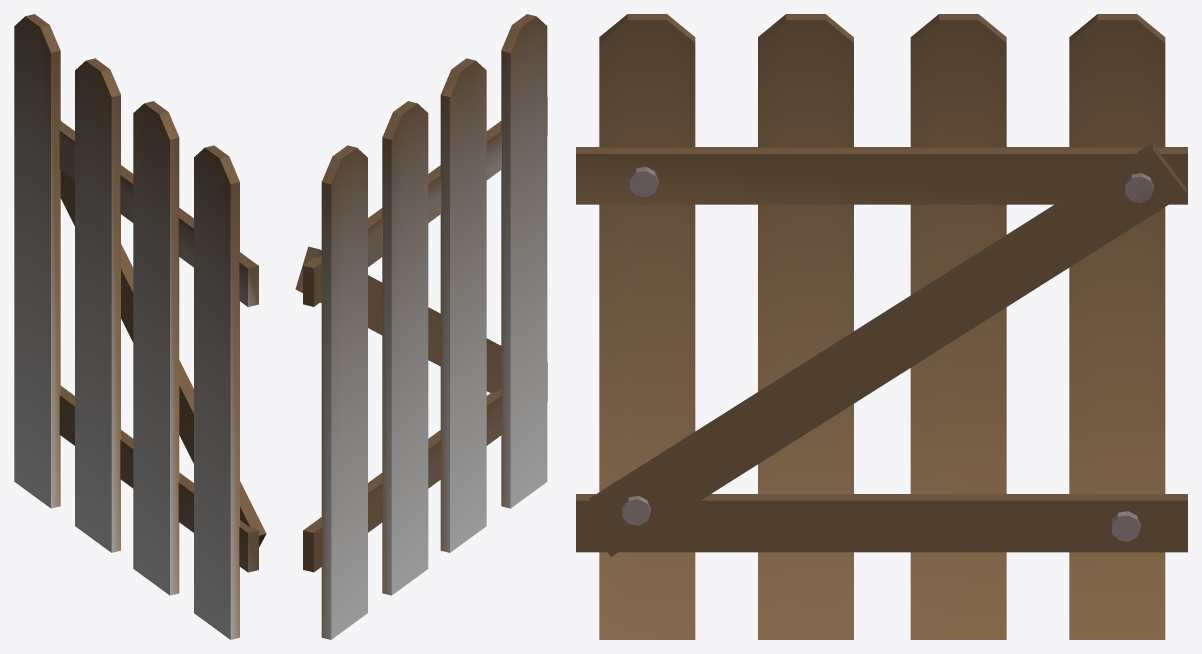
The model's file is plotek3.fbx.
3 renders of one model, left to right at view 1: azimuth 30°, elevation 25°; view 2: azimuth 150°, elevation 25°; view 3: azimuth 270°, elevation 25°, orthographic. The views are drawn at different scales.
Visible parts, largest first — view 1: Cube.003; view 2: Cube.003; view 3: Cube.003.
Boxes of the visible parts, bbox=[...] form: Cube.003: bbox=[14, 14, 266, 639]; Cube.003: bbox=[295, 14, 547, 639]; Cube.003: bbox=[576, 14, 1187, 639].
Bounding box in the file's own units: 31.37 × 425 × 380.
